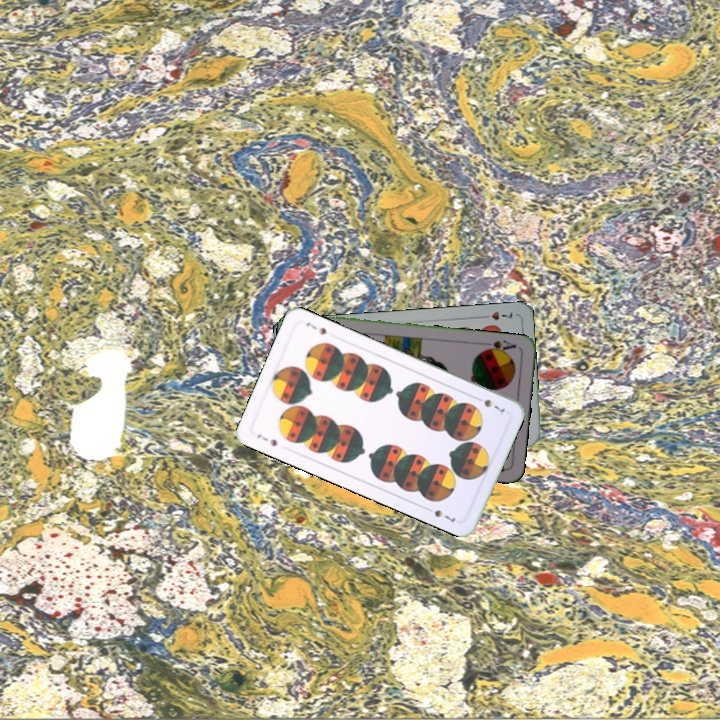H7: (476, 307, 515, 323)
S7: (471, 392, 508, 415), (253, 430, 280, 449)
SA: (479, 336, 519, 356)
